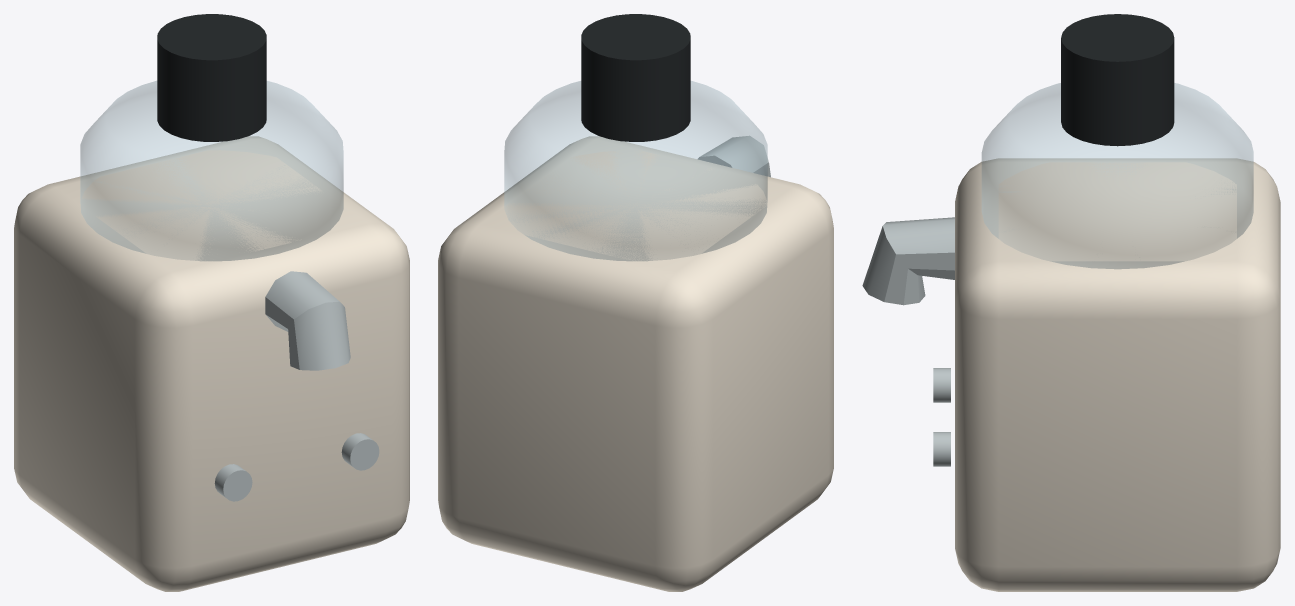
The model's file is licuadora_base.glb.
The picture shows the model from 3 angles, left to right: view 1: azimuth 30°, elevation 25°; view 2: azimuth 150°, elevation 25°; view 3: azimuth 270°, elevation 25°; orthographic projection. The views are drawn at different scales.
Parts seen in each view (by area): view 1: licuadora_base; view 2: licuadora_base; view 3: licuadora_base.
Boxes of the visible parts, box(x1,y1,x2,y2) form: licuadora_base: box(14, 14, 409, 591); licuadora_base: box(438, 14, 833, 591); licuadora_base: box(862, 14, 1280, 591).
Size of the model in its own units: 0.221 by 0.38 by 0.2877.
